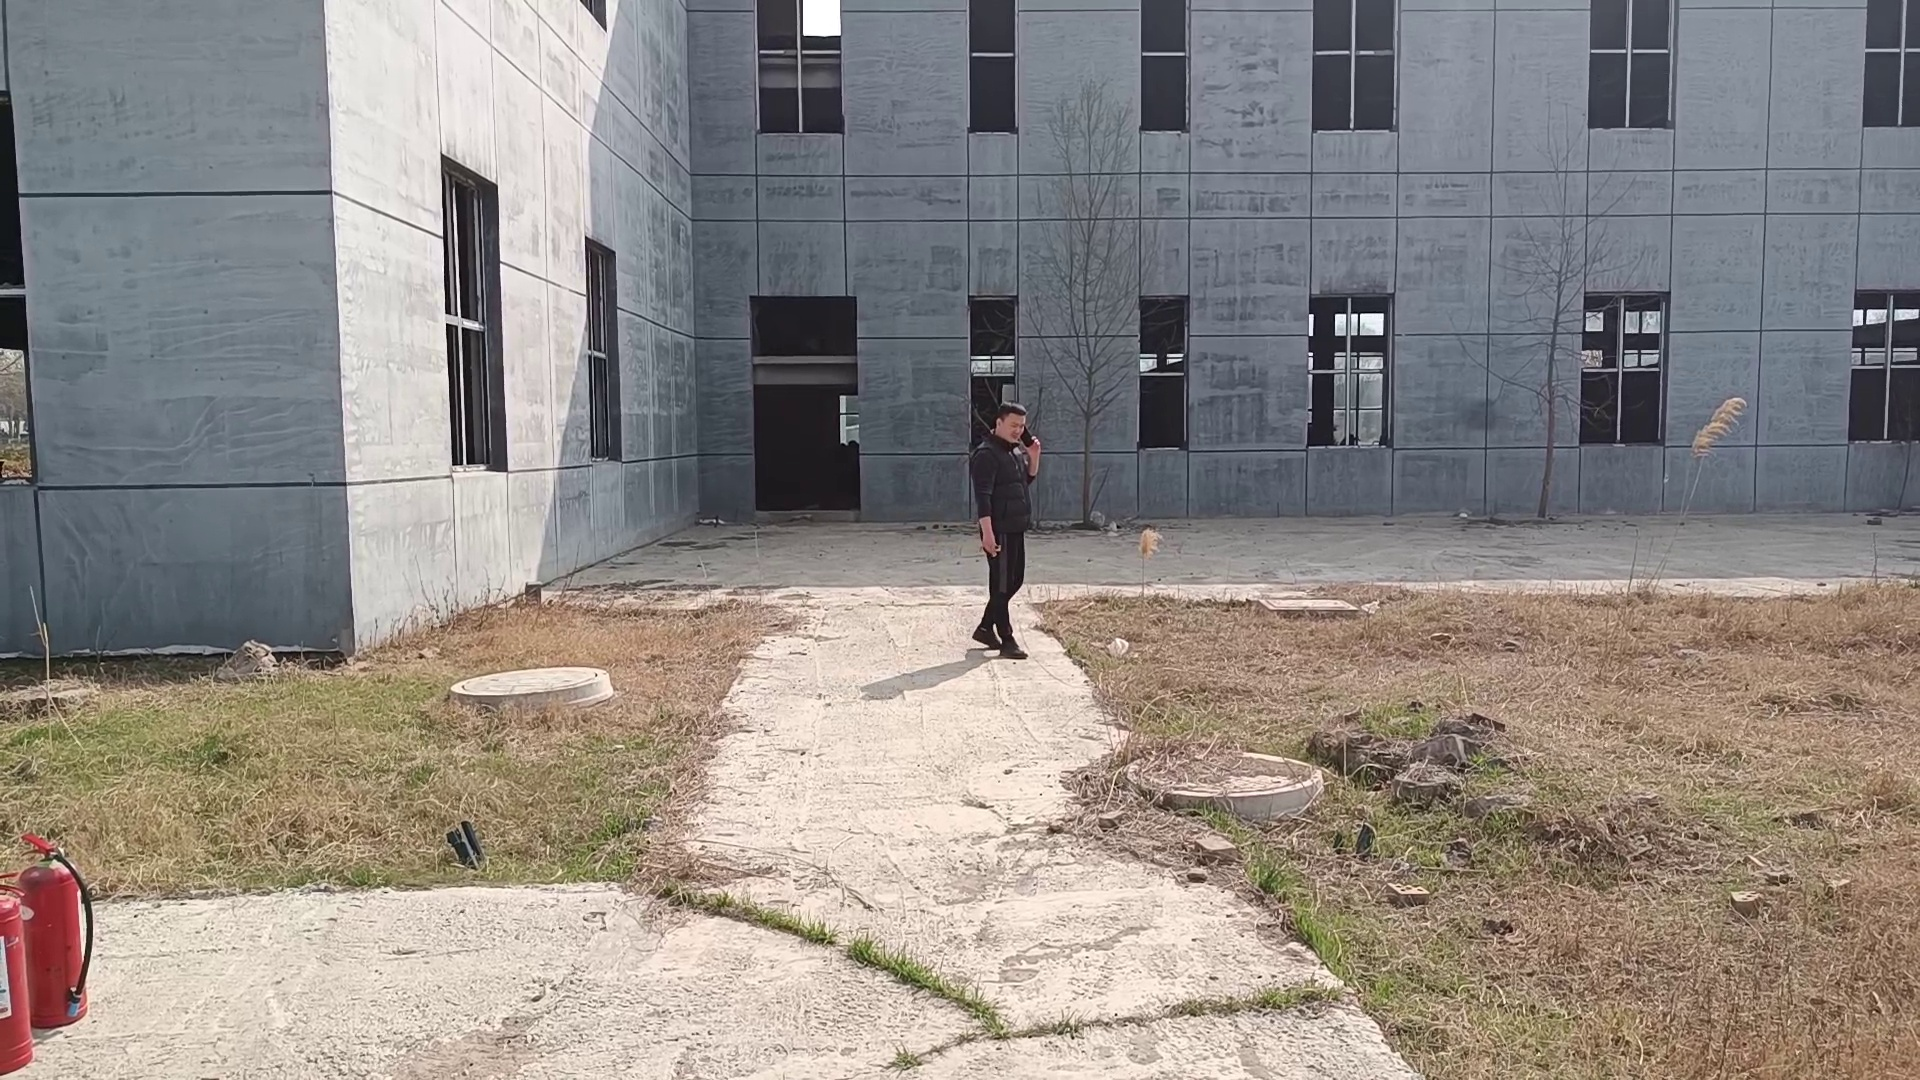phone: (993, 393, 1050, 458)
